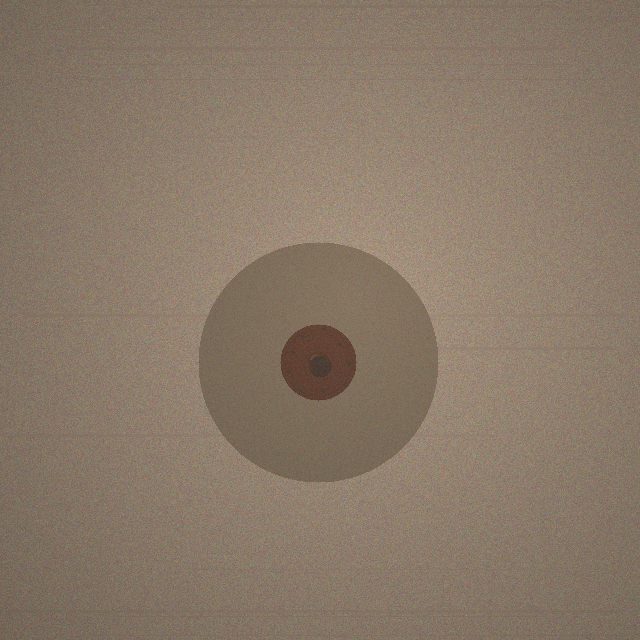cold_weld: (198, 242, 438, 482)
